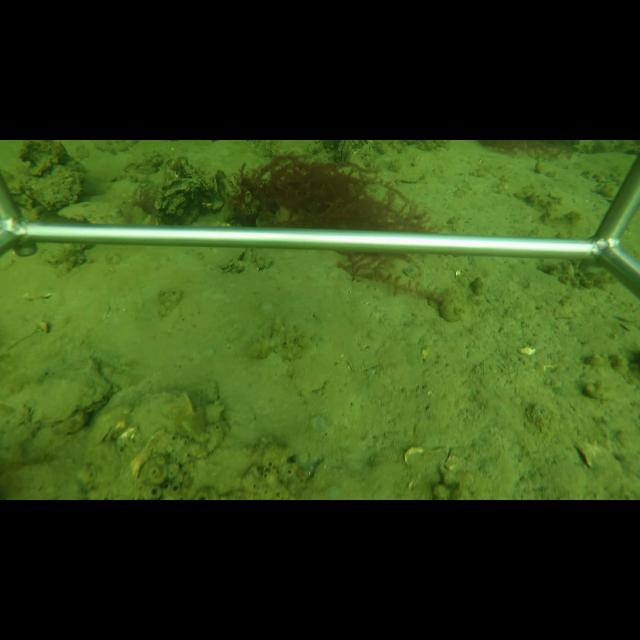Oyster-Closed: (117, 390, 229, 473), (0, 356, 121, 429)
